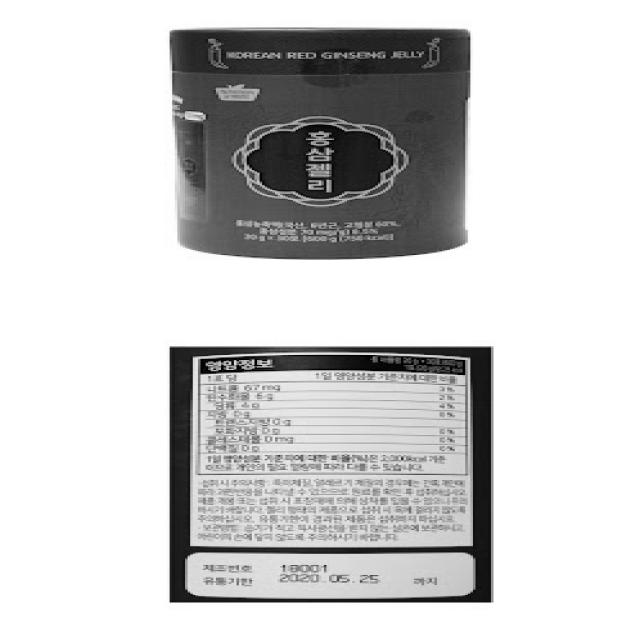Nutrition Label: (196, 356, 482, 477)
